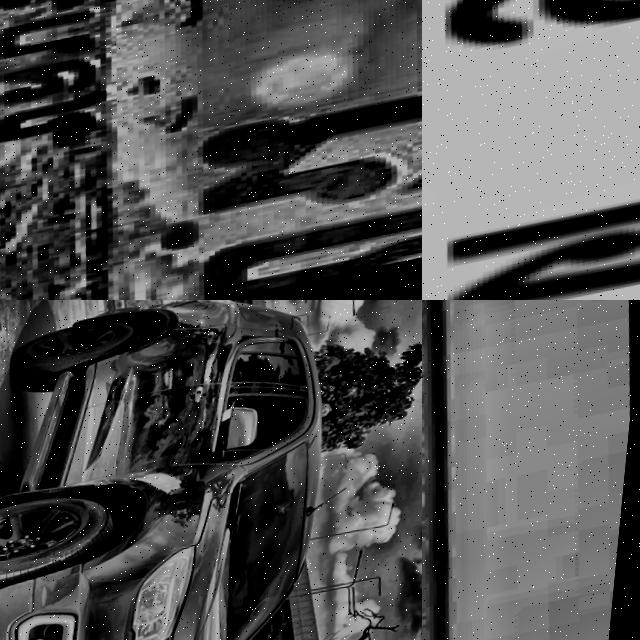license-plate: (0, 0, 422, 300), (422, 0, 640, 300), (422, 300, 539, 640)
